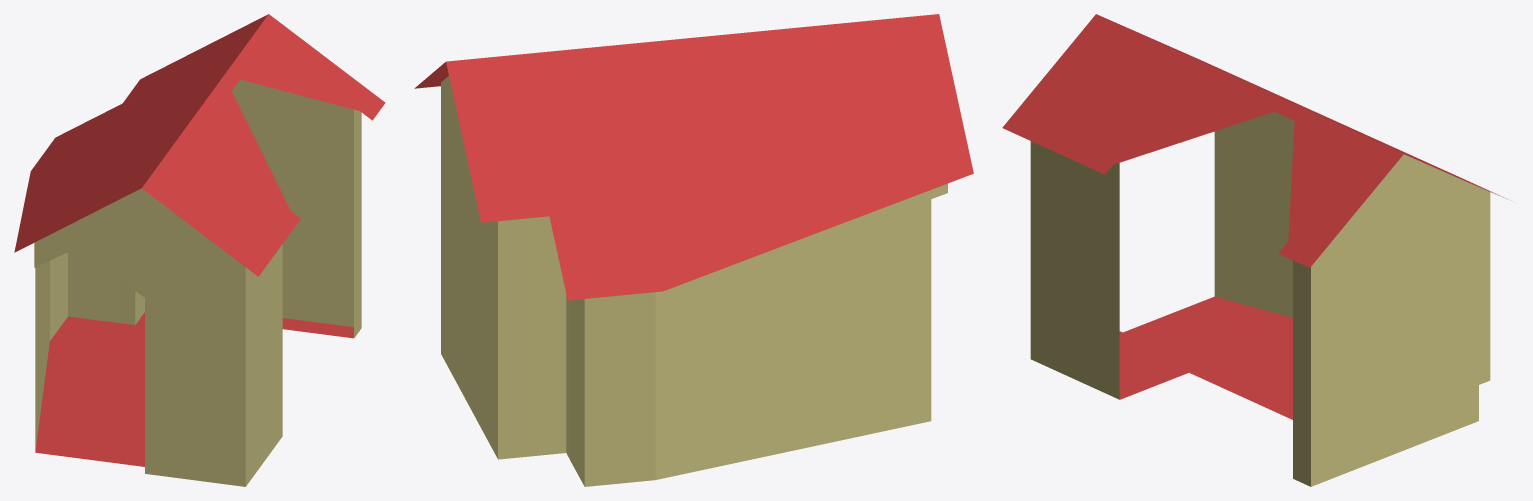
3 renders of one model, left to right at view 1: azimuth 30°, elevation 25°; view 2: azimuth 150°, elevation 25°; view 3: azimuth 270°, elevation 25°, orthographic. The views are drawn at different scales.
Bounding box in the file's own units: 19.08 × 19.19 × 12.62.
